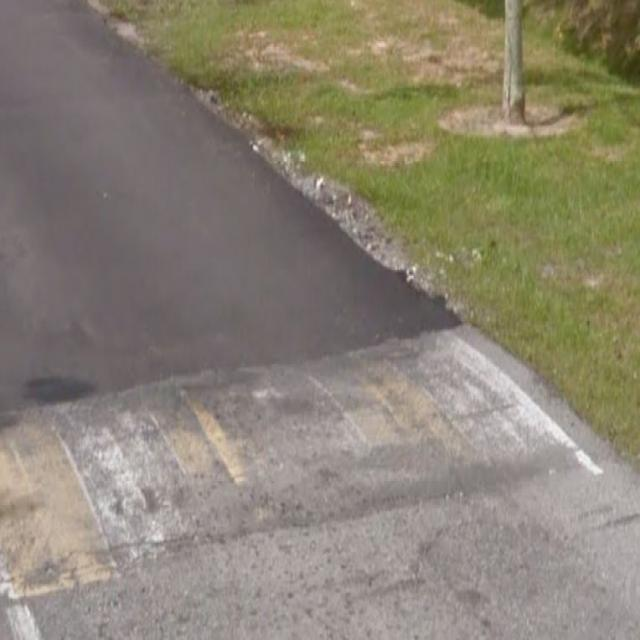speed-bump: (0, 314, 583, 615)
